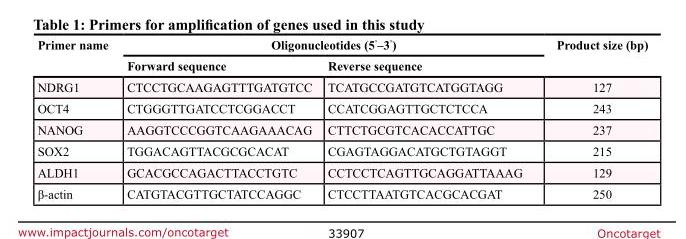table: (36, 37, 647, 200)
table column: (319, 37, 538, 200), (116, 37, 319, 200), (538, 37, 647, 200), (36, 37, 116, 200)
table column header: (36, 37, 647, 75)
table row: (36, 75, 647, 97), (36, 118, 647, 140), (36, 54, 647, 75), (36, 97, 647, 118), (36, 140, 647, 161), (36, 161, 647, 182), (36, 182, 647, 200), (36, 37, 647, 54)
table spanning cell: (116, 37, 538, 54), (538, 37, 647, 75), (36, 37, 116, 75)
